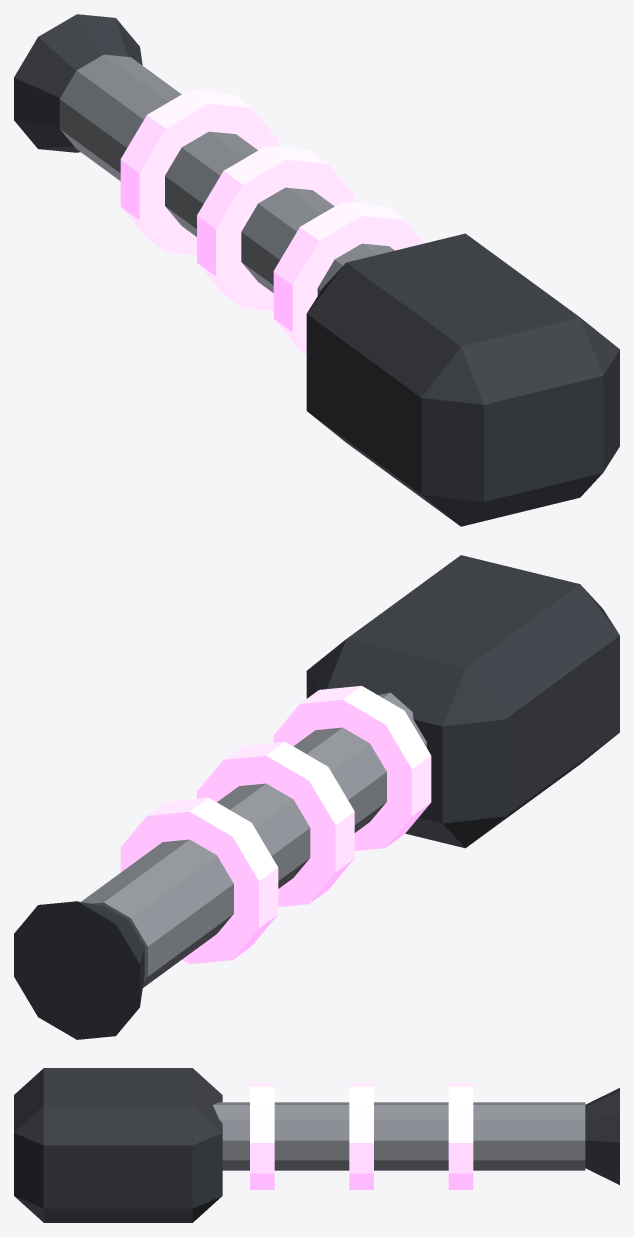
Rendered from particle_cannon.glb.
3 views of the same model, one above another, from view 1: azimuth 30°, elevation 25°; view 2: azimuth 150°, elevation 25°; view 3: azimuth 270°, elevation 25° (orthographic). The views are drawn at different scales.
Visible parts, largest first — view 1: particle_cannon; view 2: particle_cannon; view 3: particle_cannon.
Part boxes in pixels (left/top/right/bottom): particle_cannon: left=14, top=14, right=619, bottom=526; particle_cannon: left=14, top=555, right=619, bottom=1039; particle_cannon: left=14, top=1068, right=619, bottom=1222.
Size of the model in its own units: 0.3 by 0.26 by 1.22.
